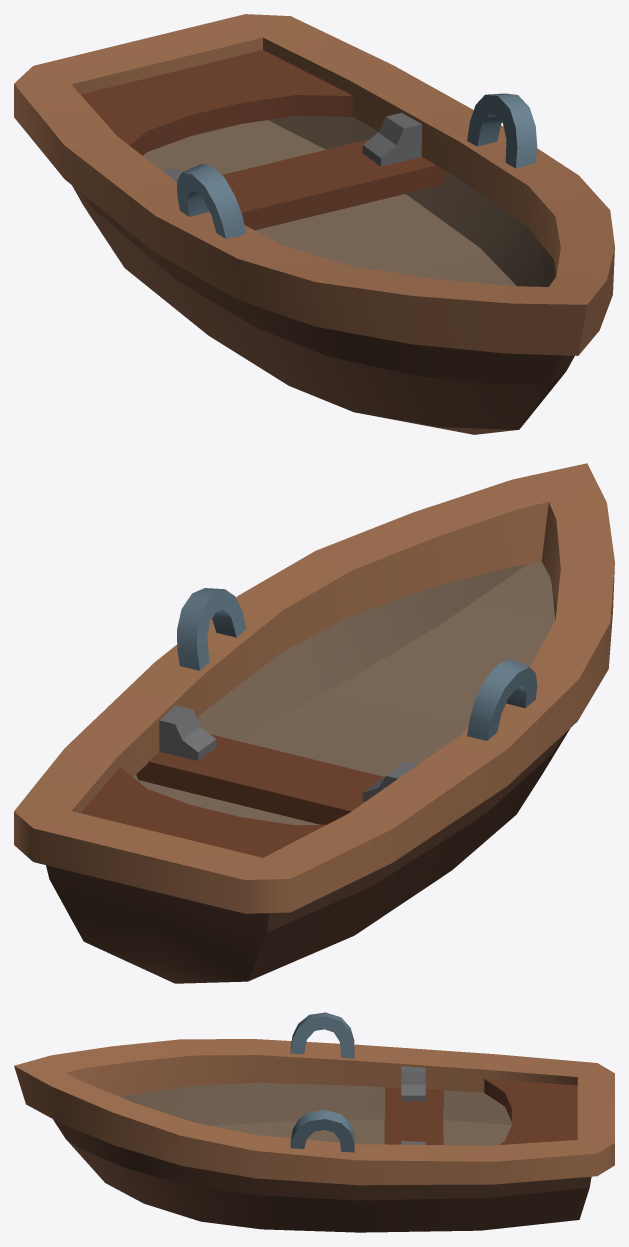
Rendered from Boat.fbx.
3 renders of one model, top to bottom at view 1: azimuth 30°, elevation 25°; view 2: azimuth 150°, elevation 25°; view 3: azimuth 270°, elevation 25°, orthographic. The views are drawn at different scales.
Parts seen in each view (by area): view 1: Boat; view 2: Boat; view 3: Boat.
Part boxes in pixels (<box>): Boat: <box>14,14,614,434</box>; Boat: <box>14,463,614,983</box>; Boat: <box>14,1012,614,1232</box>.
Size of the model in its own units: 156 by 98.68 by 344.
